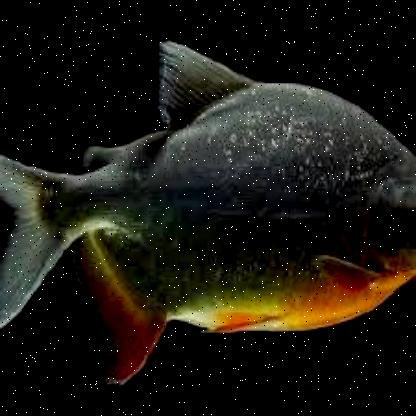ikan-pacu: (0, 66, 406, 371)
